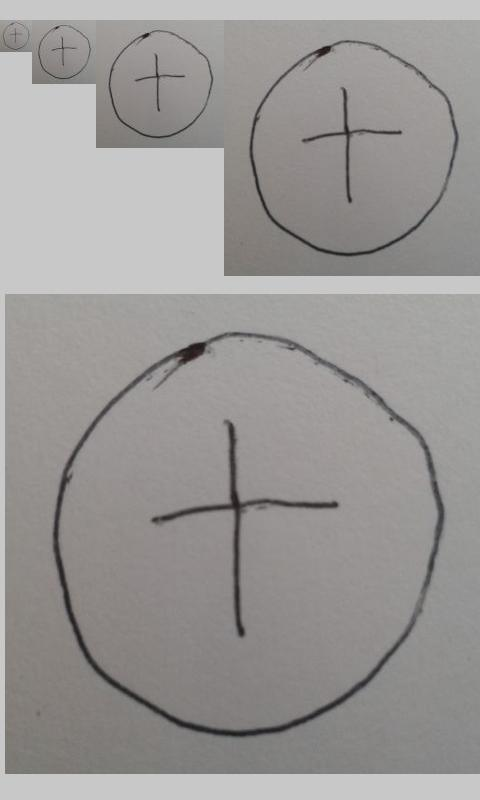button: (51, 329, 447, 739), (249, 39, 460, 258), (108, 29, 215, 139), (37, 24, 92, 80), (2, 21, 30, 51)
